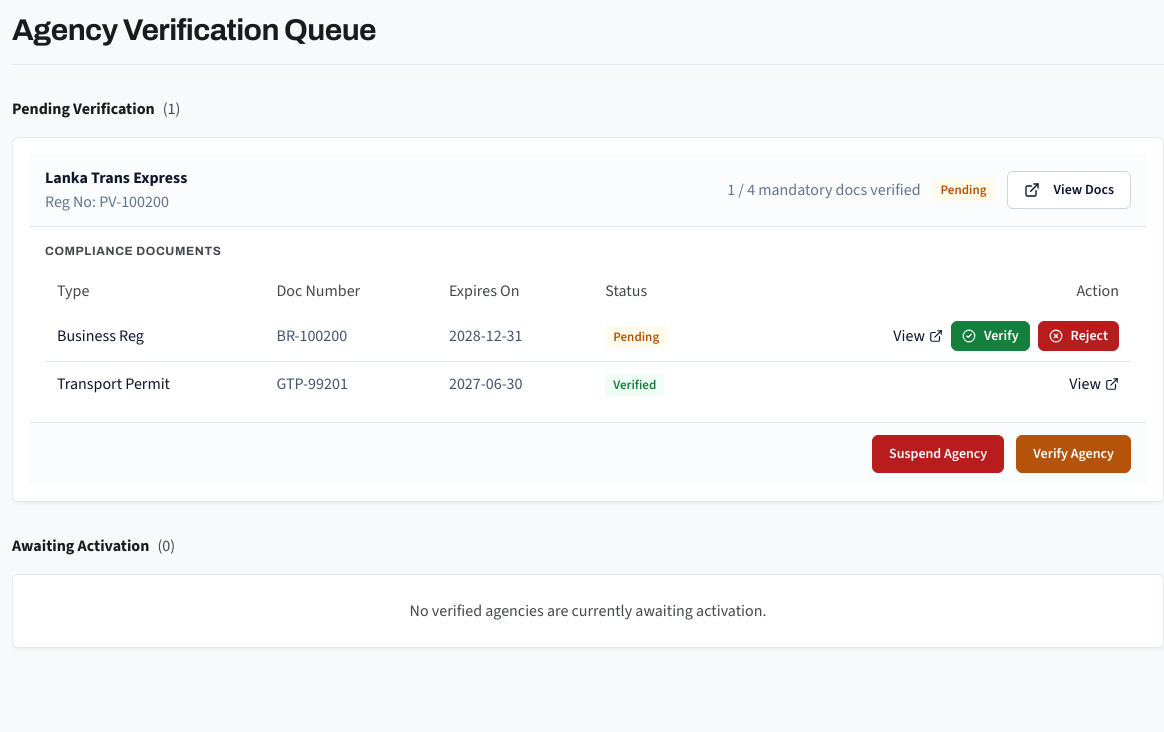
it: AgencyVerificationPage › hides all action buttons immediately when doc Verify button is clicked
Expected: the button "Reject" is shown, top-left (1038, 321), bottom-right (1119, 351)
Click the button "Verify" at (990, 336), box top-left (951, 321), bottom-right (1030, 351)
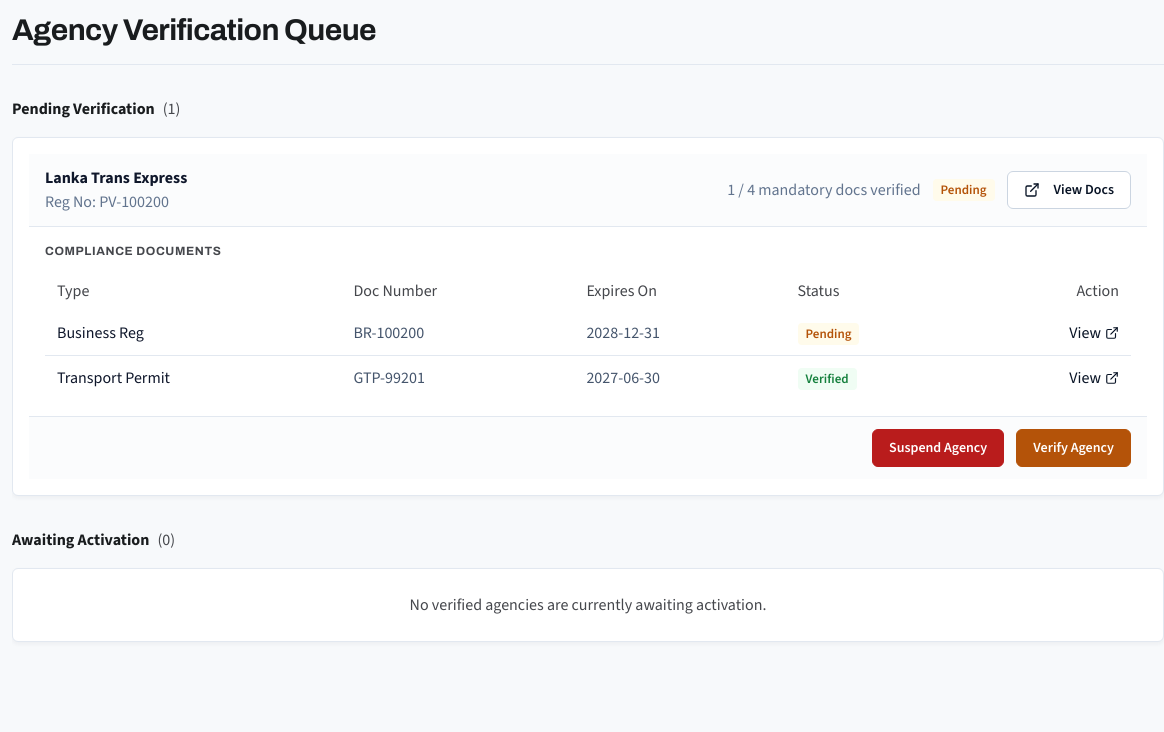
Expected: the button "Reject" is gone
